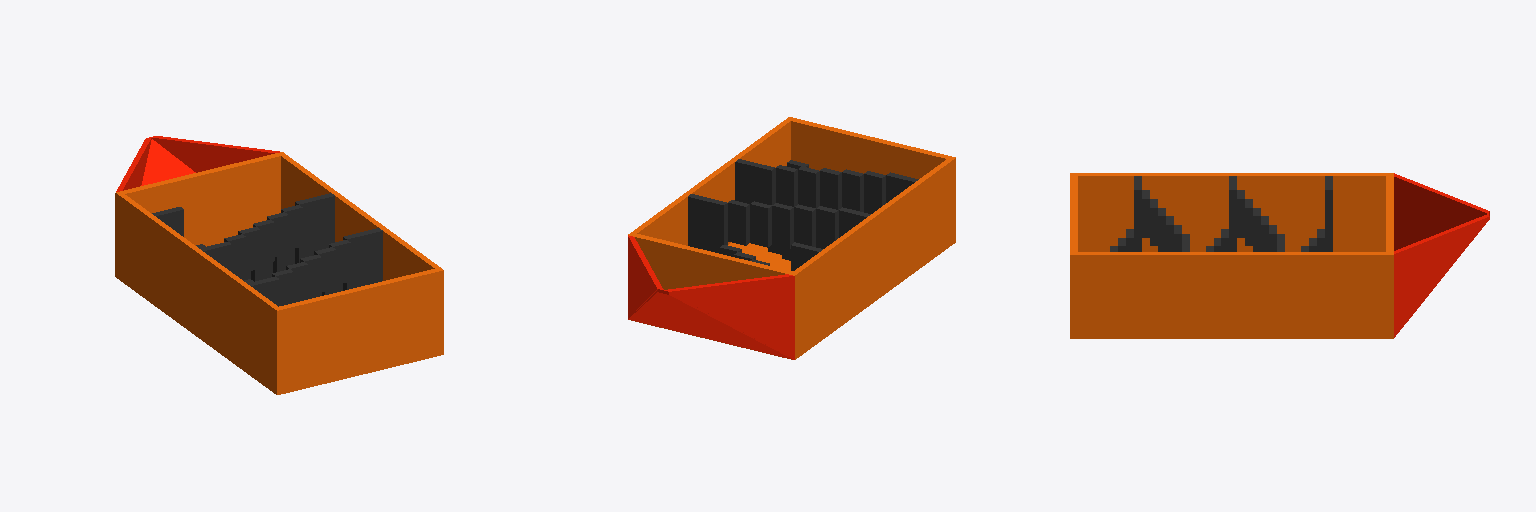
The model's file is obj2_interior-escadas.obj.
3 views of the same model, side by side, from view 1: azimuth 30°, elevation 25°; view 2: azimuth 150°, elevation 25°; view 3: azimuth 270°, elevation 25° (orthographic).
Visible parts, largest first — view 1: Cube.030_Cube, Cube.074_Cube.054, Cube.056_Cube.067, Cube.046_Cube.055, Cube.075, Cube.072_Cube.033, Cube.042_Cube.051, Cube.053_Cube.064, Cube.052_Cube.063, Cube.043_Cube.052, Cube.055_Cube.066, Cube.054_Cube.065 (+3 smaller); view 2: Cube.030_Cube, Cube.072_Cube.033, Cube.075, Cube.056_Cube.067, Cube.046_Cube.055, Cube.074_Cube.054, Cube.054_Cube.065, Cube.055_Cube.066, Cube.053_Cube.064, Cube.051_Cube.062, Cube.040_Cube.049, Cube.052_Cube.063 (+5 smaller); view 3: Cube.030_Cube, Cube.074_Cube.054, Cube.072_Cube.033, Cube.038_Cube.047, Cube.050_Cube.061, Cube.062_Cube.073.
Part boxes in pixels (x1,y1,x2,y2): Cube.030_Cube: (115, 152, 443, 394); Cube.074_Cube.054: (152, 136, 279, 172); Cube.056_Cube.067: (295, 193, 334, 263); Cube.046_Cube.055: (343, 228, 382, 290); Cube.075: (141, 136, 195, 185); Cube.072_Cube.033: (116, 137, 151, 191); Cube.042_Cube.051: (314, 247, 336, 291); Cube.053_Cube.064: (253, 219, 274, 264); Cube.052_Cube.063: (238, 227, 259, 271); Cube.043_Cube.052: (329, 240, 350, 284); Cube.055_Cube.066: (281, 205, 302, 249); Cube.054_Cube.065: (267, 212, 288, 256); Cube.030_Cube: (628, 117, 955, 359); Cube.072_Cube.033: (664, 274, 794, 359); Cube.075: (628, 289, 792, 359); Cube.056_Cube.067: (688, 194, 727, 253); Cube.046_Cube.055: (735, 159, 775, 247); Cube.074_Cube.054: (628, 235, 663, 318); Cube.054_Cube.065: (750, 201, 771, 246); Cube.055_Cube.066: (728, 200, 749, 245); Cube.053_Cube.064: (772, 203, 793, 248); Cube.051_Cube.062: (816, 206, 838, 248); Cube.040_Cube.049: (842, 169, 863, 211); Cube.052_Cube.063: (794, 204, 815, 246); Cube.030_Cube: (1070, 173, 1393, 338); Cube.074_Cube.054: (1394, 214, 1488, 337); Cube.072_Cube.033: (1394, 173, 1488, 250); Cube.038_Cube.047: (1134, 176, 1141, 251); Cube.050_Cube.061: (1229, 176, 1236, 251); Cube.062_Cube.073: (1325, 176, 1332, 251).
Bounding box in the file's own units: 4.87 × 2.36 × 10.57.